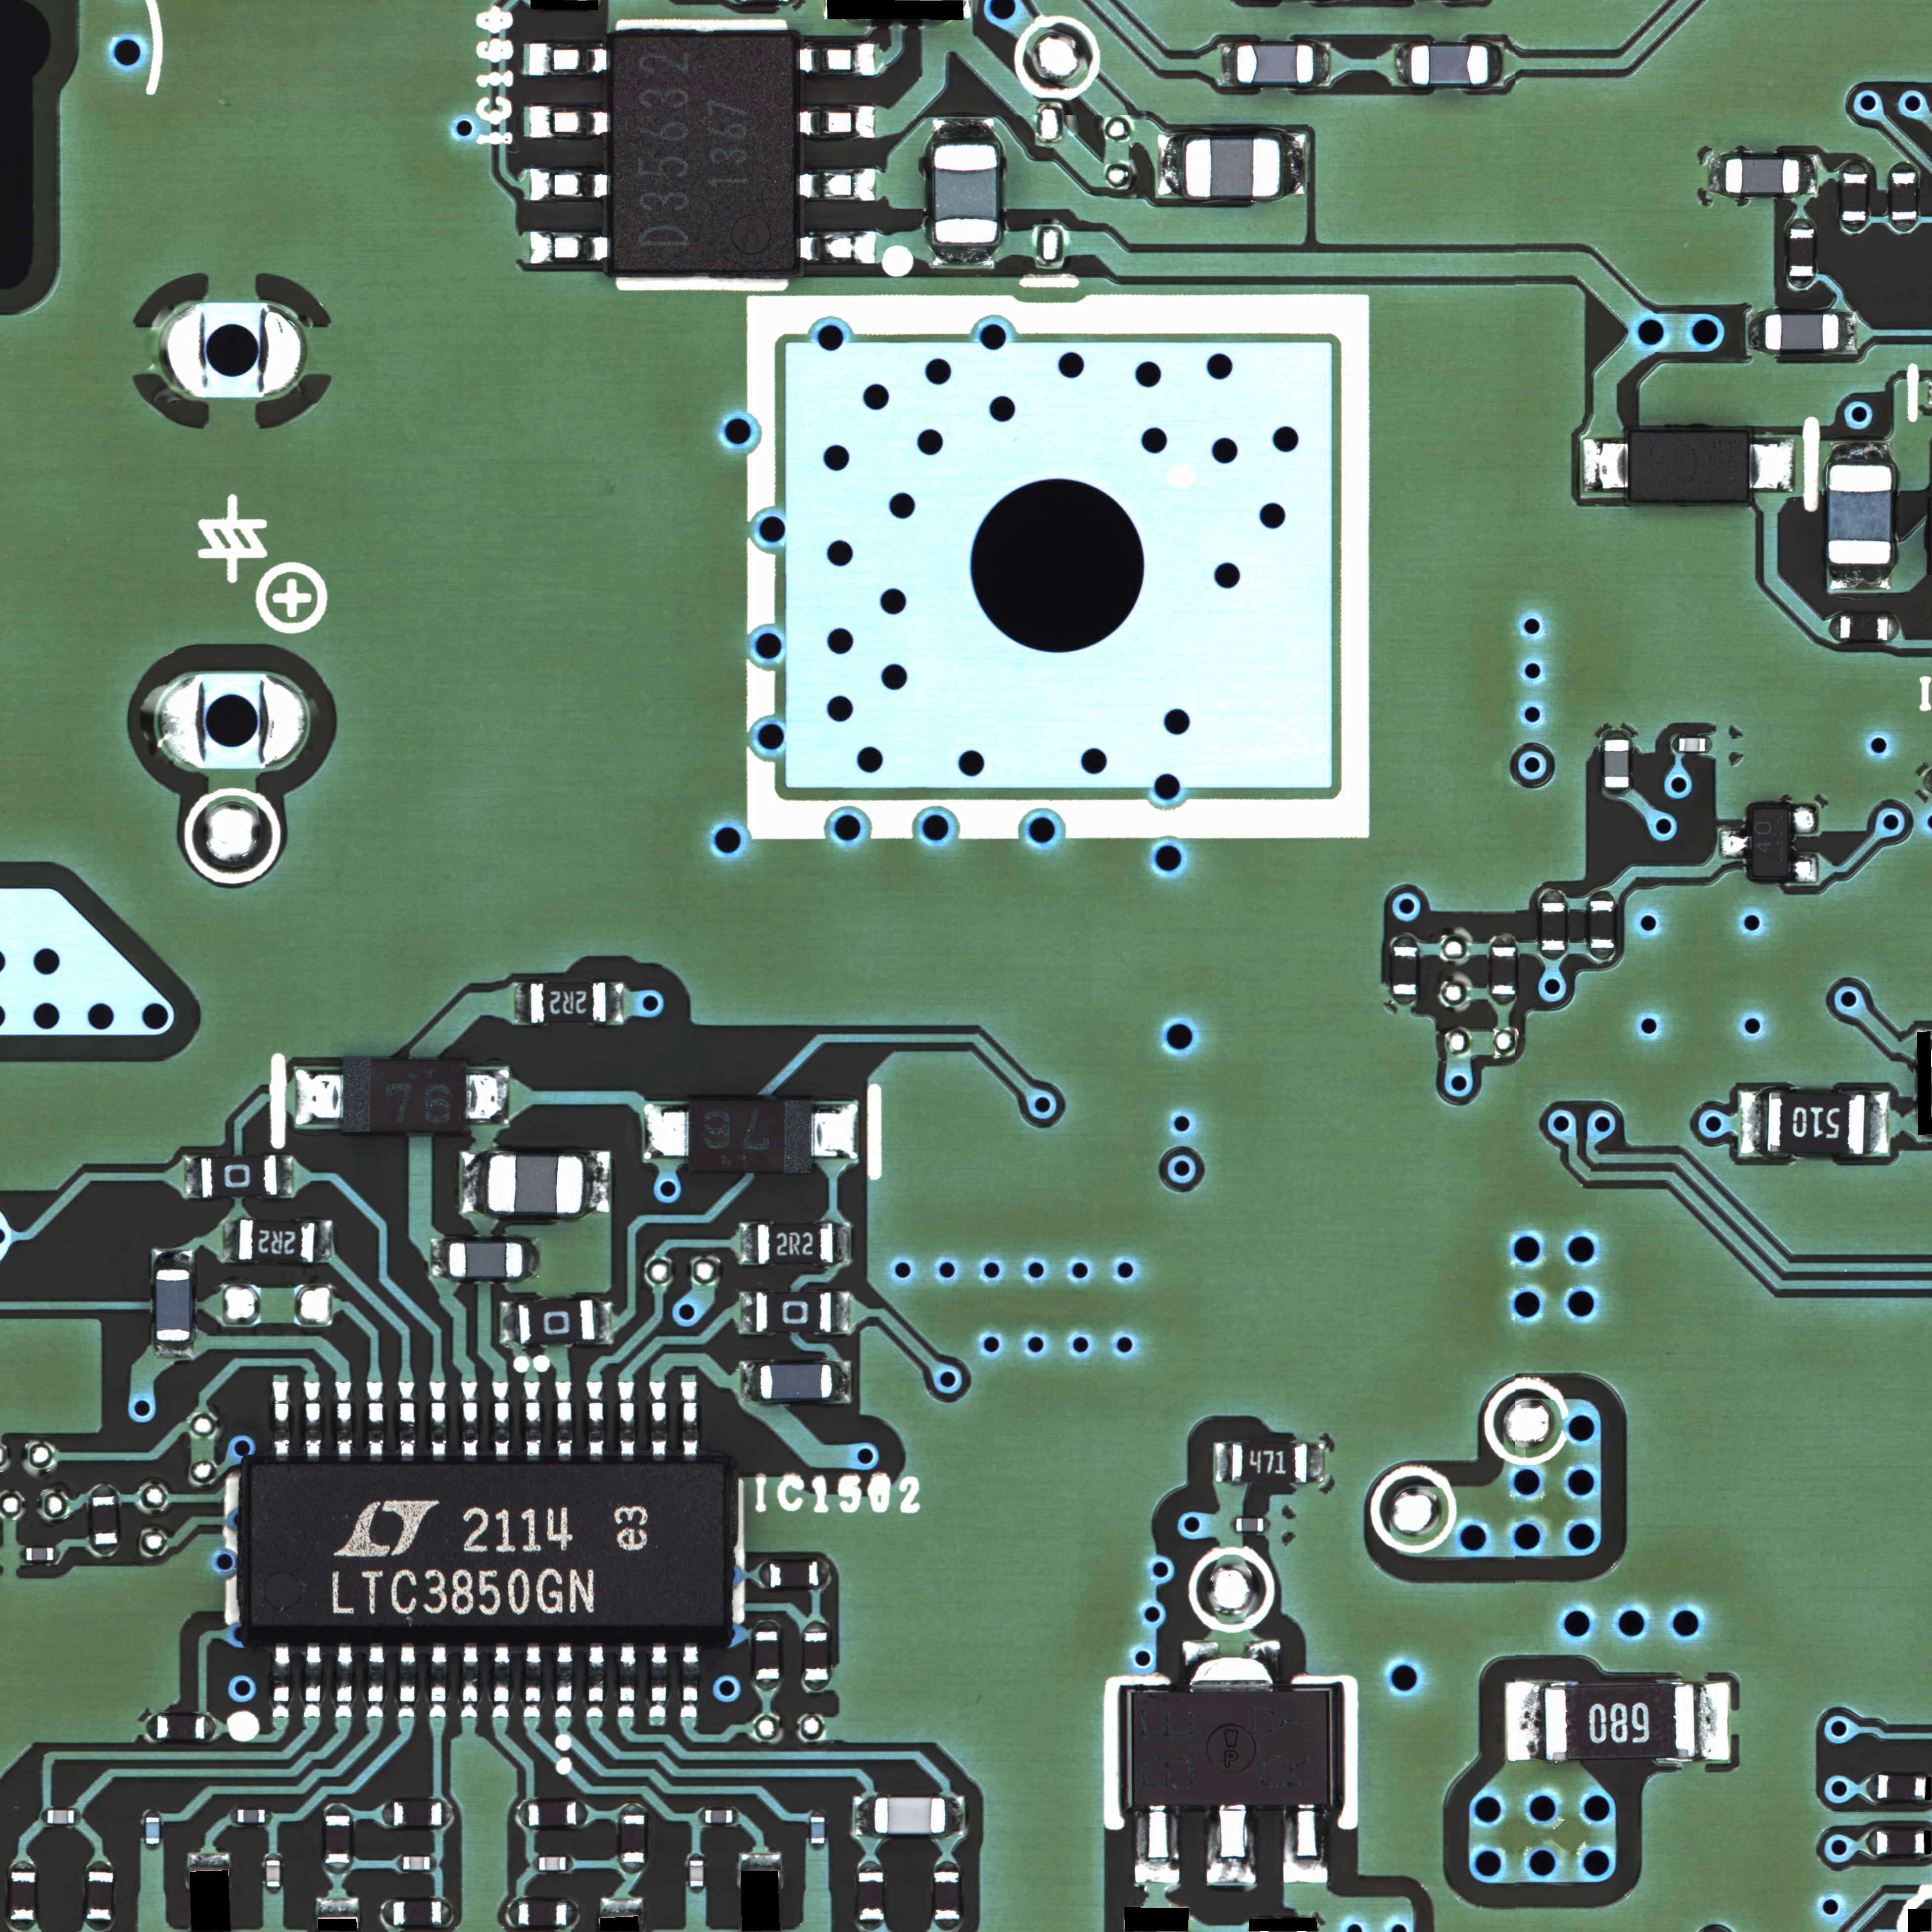Package: (253, 1463, 724, 1626), (614, 34, 793, 271), (1134, 1693, 1327, 1805), (1545, 1686, 1695, 1760), (343, 1060, 464, 1132), (690, 1099, 810, 1171), (1631, 432, 1748, 501), (934, 143, 998, 242), (1829, 465, 1891, 564), (1769, 1092, 1865, 1154), (1185, 138, 1281, 196), (488, 1155, 584, 1212), (518, 1300, 594, 1345), (241, 1219, 315, 1261), (531, 982, 607, 1023), (202, 1157, 278, 1198), (757, 1223, 833, 1263), (1231, 1444, 1307, 1484), (1237, 44, 1315, 83), (757, 1293, 832, 1332), (1412, 46, 1488, 83), (449, 1242, 522, 1277), (874, 1798, 945, 1833), (761, 1364, 832, 1399), (1753, 809, 1789, 878), (1727, 159, 1799, 193), (1766, 315, 1838, 349), (157, 1270, 189, 1341), (92, 1495, 119, 1545), (87, 1872, 113, 1920), (393, 1799, 441, 1826), (770, 1562, 819, 1587), (1891, 173, 1918, 219), (1879, 1773, 1925, 1799), (157, 1714, 205, 1739), (529, 1801, 577, 1826), (858, 1872, 883, 1920), (934, 1872, 959, 1920), (755, 1631, 780, 1679), (1790, 228, 1815, 276), (1605, 740, 1629, 787), (1392, 947, 1417, 994), (11, 1874, 35, 1920), (1844, 172, 1867, 221), (1589, 902, 1614, 948), (326, 1815, 349, 1863), (393, 1902, 441, 1925), (518, 1902, 566, 1925), (621, 1815, 644, 1863), (1543, 902, 1566, 950), (1493, 947, 1516, 994), (805, 1633, 828, 1679), (1842, 616, 1888, 639), (1877, 1831, 1923, 1854), (145, 1817, 159, 1844), (403, 1856, 430, 1870), (1679, 738, 1706, 752), (25, 1548, 53, 1560), (237, 1810, 265, 1822), (48, 1810, 74, 1822), (267, 1859, 280, 1886), (540, 1858, 566, 1870), (690, 1859, 702, 1886), (706, 1810, 732, 1822), (812, 1817, 824, 1844), (1237, 1518, 1263, 1530)
Solder: (1182, 1640, 1281, 1691), (1208, 1805, 1256, 1886), (1136, 1806, 1180, 1886), (1284, 1806, 1327, 1882), (1506, 1681, 1545, 1760), (1695, 1681, 1730, 1760), (529, 42, 612, 76), (529, 104, 612, 138), (529, 168, 612, 202), (529, 230, 612, 264), (294, 1069, 341, 1125), (796, 42, 876, 76), (796, 104, 876, 138), (796, 168, 876, 202), (796, 230, 876, 264), (812, 1104, 858, 1161), (465, 1070, 510, 1127), (644, 1104, 688, 1161), (1582, 439, 1628, 490), (1750, 439, 1794, 492), (1739, 1092, 1767, 1155), (1828, 564, 1893, 591), (1157, 134, 1185, 195), (931, 244, 1000, 267), (524, 1380, 543, 1461), (554, 1380, 573, 1461), (586, 1380, 605, 1461), (616, 1380, 635, 1461), (648, 1380, 667, 1461), (678, 1380, 697, 1461), (460, 1150, 485, 1214), (1281, 133, 1306, 196), (1865, 1092, 1890, 1155), (272, 1382, 292, 1461), (303, 1382, 322, 1461), (334, 1382, 354, 1461), (364, 1382, 384, 1461), (398, 1382, 418, 1461), (428, 1382, 448, 1461), (460, 1382, 479, 1461), (490, 1382, 510, 1461), (932, 117, 994, 142), (586, 1150, 610, 1212), (303, 1644, 322, 1718), (334, 1644, 354, 1718), (586, 1644, 605, 1718), (272, 1642, 290, 1718), (366, 1644, 384, 1720), (398, 1642, 416, 1718), (492, 1644, 510, 1720), (617, 1644, 635, 1720), (430, 1644, 448, 1718), (462, 1644, 479, 1718), (524, 1644, 541, 1718), (554, 1645, 571, 1720), (649, 1644, 667, 1718), (679, 1645, 697, 1720), (1831, 442, 1891, 464), (1720, 826, 1750, 860), (1790, 853, 1819, 885), (607, 982, 626, 1024), (501, 1300, 520, 1343), (1799, 154, 1819, 196), (1790, 805, 1817, 835), (947, 1796, 966, 1836), (593, 1299, 610, 1343), (600, 1897, 644, 1914), (855, 1796, 874, 1835), (184, 1155, 202, 1198), (833, 1361, 851, 1403), (1838, 311, 1856, 354), (317, 1898, 359, 1916), (156, 1249, 193, 1269), (832, 1292, 849, 1332), (1748, 310, 1764, 354), (154, 1341, 193, 1359), (741, 1852, 780, 1870), (741, 1362, 759, 1401), (278, 1155, 294, 1198), (524, 1237, 540, 1279), (740, 1292, 755, 1334), (1214, 1442, 1230, 1484), (188, 1852, 230, 1868), (515, 982, 531, 1023), (432, 1238, 448, 1279), (317, 1221, 333, 1261), (223, 1221, 239, 1261), (1309, 1444, 1325, 1484), (1316, 42, 1330, 85), (741, 1224, 757, 1261), (1223, 44, 1237, 85), (835, 1224, 849, 1263), (1711, 157, 1725, 195), (1491, 44, 1504, 85), (1396, 44, 1408, 81), (1789, 278, 1817, 292), (205, 1714, 218, 1741), (1891, 221, 1918, 234), (1888, 614, 1900, 640), (1589, 948, 1615, 961), (326, 1863, 350, 1875), (566, 1902, 579, 1927), (755, 1681, 780, 1693), (1844, 221, 1868, 234), (1828, 614, 1840, 639), (1541, 888, 1566, 901), (442, 1799, 453, 1828), (819, 1560, 830, 1589), (324, 1803, 350, 1813), (382, 1799, 393, 1826), (621, 1865, 648, 1875), (1890, 161, 1916, 172), (1603, 789, 1629, 800), (87, 1920, 113, 1930), (1867, 1775, 1877, 1801), (92, 1484, 117, 1495), (11, 1861, 35, 1872), (442, 1900, 453, 1925), (517, 1801, 527, 1826), (858, 1861, 883, 1872), (1392, 996, 1417, 1007), (1491, 934, 1516, 945), (1491, 996, 1516, 1007), (11, 1920, 35, 1930), (1867, 1831, 1877, 1856), (934, 1920, 959, 1930), (621, 1803, 644, 1813), (803, 1621, 826, 1631), (805, 1681, 828, 1691), (1591, 890, 1614, 901), (92, 1546, 119, 1555), (147, 1713, 156, 1739), (87, 1861, 113, 1870), (579, 1799, 587, 1826), (1842, 161, 1868, 170), (1603, 729, 1629, 738), (1541, 952, 1568, 961), (1392, 936, 1419, 945), (858, 1921, 885, 1930), (382, 1902, 393, 1923), (508, 1900, 517, 1925), (759, 1562, 768, 1587), (1789, 218, 1813, 226), (755, 1621, 778, 1629), (934, 1861, 957, 1870), (74, 1808, 83, 1826), (430, 1856, 439, 1872), (697, 1808, 704, 1826), (39, 1808, 46, 1824), (265, 1852, 281, 1859), (265, 1888, 281, 1895), (732, 1808, 740, 1824), (1706, 736, 1713, 752), (1672, 736, 1679, 752), (1263, 1516, 1270, 1532), (1228, 1516, 1235, 1532), (228, 1810, 237, 1822), (145, 1845, 159, 1852), (267, 1810, 274, 1824), (566, 1856, 573, 1870), (690, 1888, 704, 1895), (395, 1856, 402, 1868), (690, 1852, 702, 1859), (810, 1808, 823, 1815), (55, 1546, 60, 1562), (19, 1546, 25, 1560), (145, 1810, 159, 1815), (533, 1856, 538, 1870), (812, 1845, 824, 1851)
